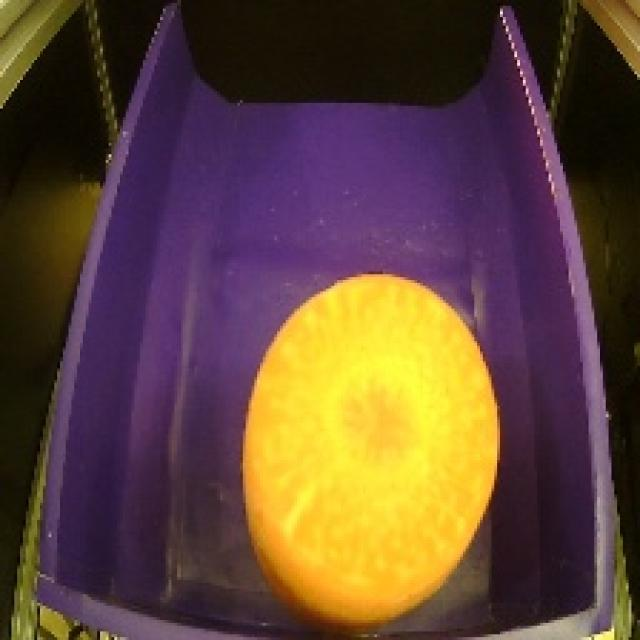carrots: (226, 259, 510, 635)
